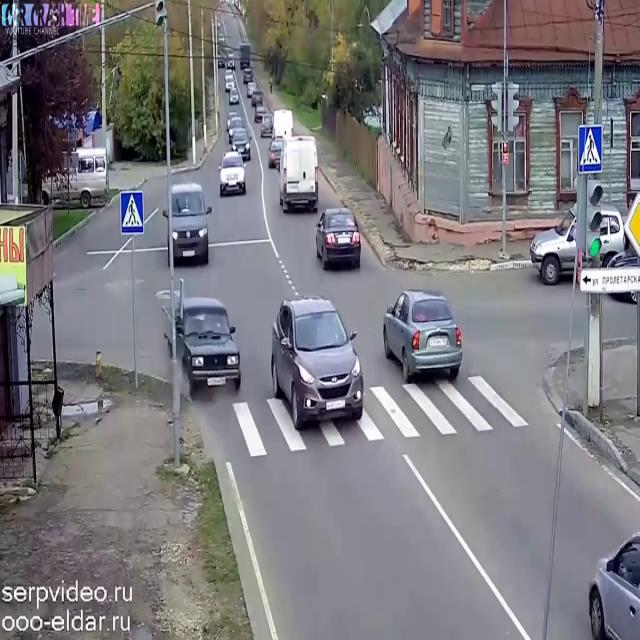Accident: (146, 272, 260, 418)
